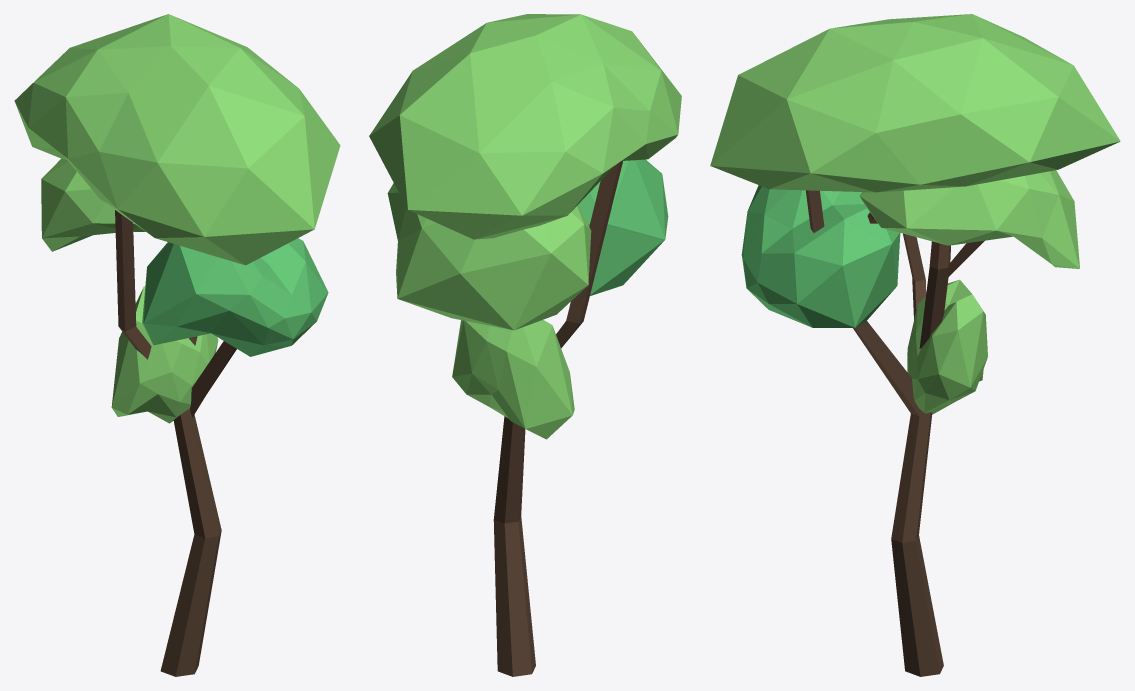
File: Tree_Type1_4.fbx
3 renders of one model, left to right at view 1: azimuth 30°, elevation 25°; view 2: azimuth 150°, elevation 25°; view 3: azimuth 270°, elevation 25°, orthographic.
Parts seen in each view (by area): view 1: Tree_Type1_4; view 2: Tree_Type1_4; view 3: Tree_Type1_4.
Part boxes in pixels (x1,y1,x2,y2): Tree_Type1_4: [14, 14, 340, 676]; Tree_Type1_4: [369, 14, 681, 676]; Tree_Type1_4: [710, 14, 1120, 676].
Size of the model in its own units: 248 by 661 by 384.
